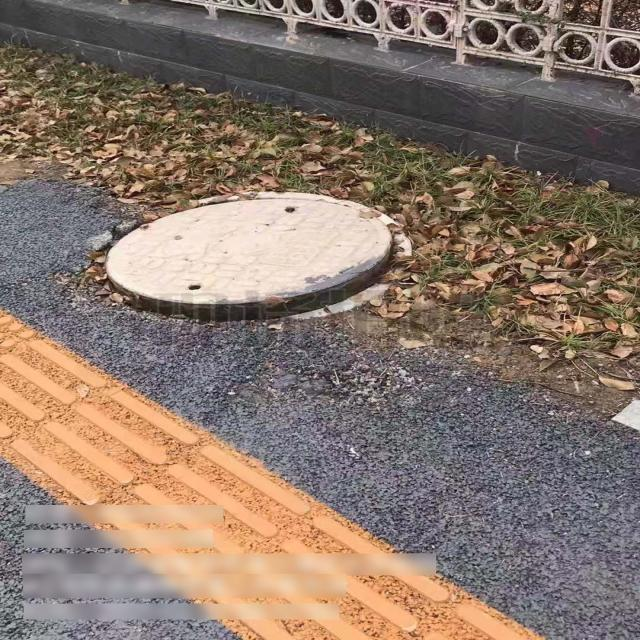Faulty: (94, 188, 412, 316)
